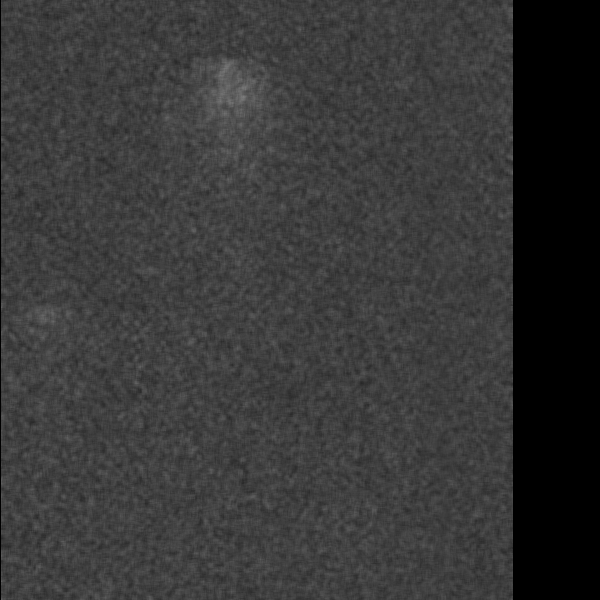spark: (201, 63, 272, 168)
